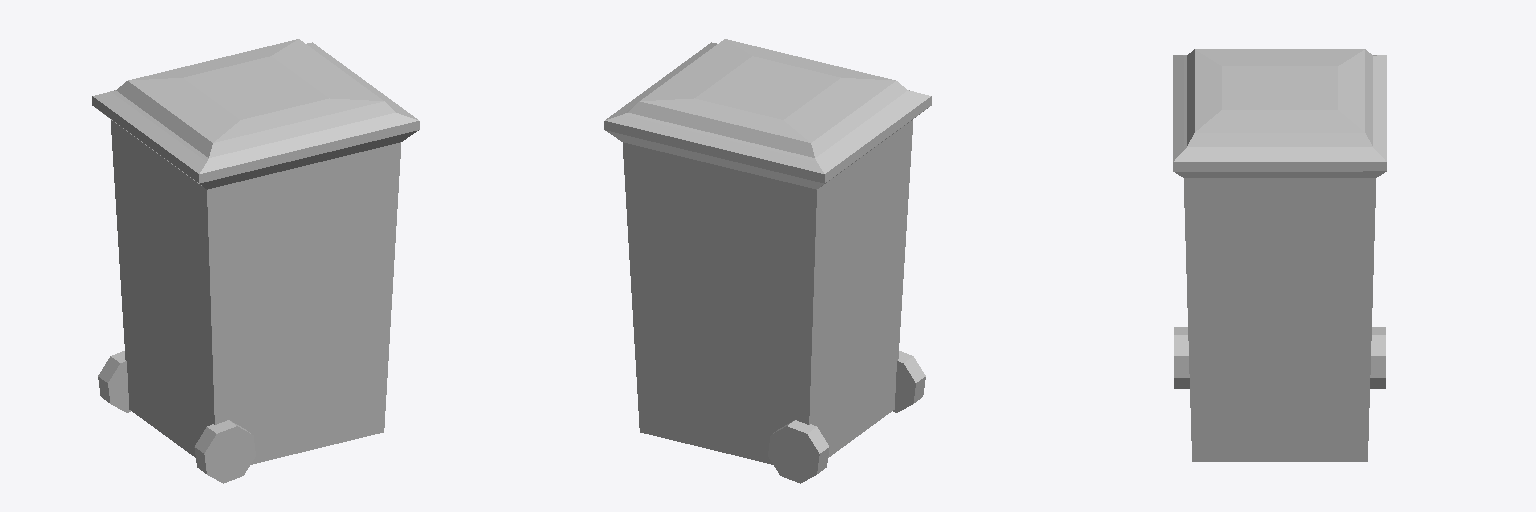
File: Muelltonne_Kurz_noMat.obj
The picture shows the model from 3 angles: view 1: azimuth 30°, elevation 25°; view 2: azimuth 150°, elevation 25°; view 3: azimuth 270°, elevation 25°; orthographic projection.
Visible parts, largest first — view 1: Muelltonne_Kurz1; view 2: Muelltonne_Kurz1; view 3: Muelltonne_Kurz1.
Boxes of the visible parts, box(x1,y1,x2,y2) form: Muelltonne_Kurz1: box(92, 39, 419, 483); Muelltonne_Kurz1: box(604, 39, 931, 483); Muelltonne_Kurz1: box(1173, 49, 1386, 461).
Size of the model in its own units: 70.76 by 103 by 59.47.